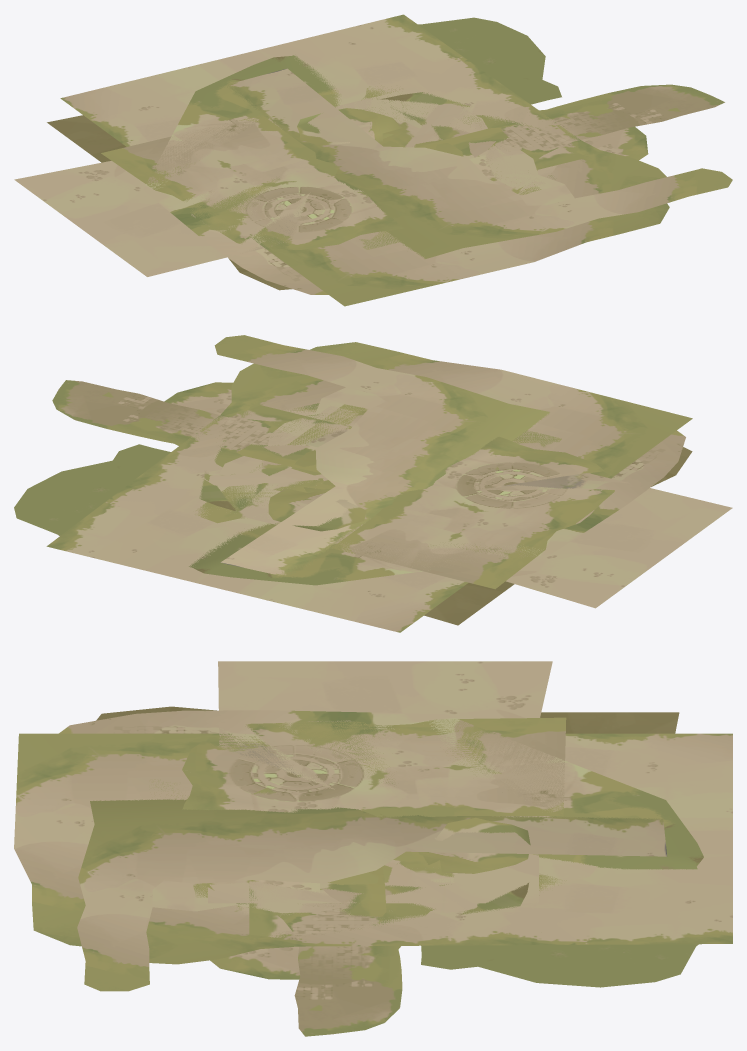
Rendered from EN_Island_LVL1_mesh.gltf.
The picture shows the model from 3 angles, top to bottom: view 1: azimuth 30°, elevation 25°; view 2: azimuth 150°, elevation 25°; view 3: azimuth 270°, elevation 25°; orthographic projection. The views are drawn at different scales.
Parts seen in each view (by area): view 1: SM_Island_4, SM_Island_4_L, SM_Island_2, SM_Island_1, SM_Island_3, SM_Island_1_Left, SM_Island_4_down, SM_Island_3_bottom_1, SM_Island_2_Front, SM_Island_3_top, SM_Island_2_Back, SM_Island_3_down; view 2: SM_Island_4, SM_Island_4_L, SM_Island_2, SM_Island_1, SM_Island_3, SM_Island_1_Left, SM_Island_3_right, SM_Island_2_Front, SM_Island_3_bottom_1, SM_Island_3_top, SM_Island_4_down, SM_Island_3_down (+1 smaller); view 3: SM_Island_4, SM_Island_4_L, SM_Island_2, SM_Island_3, SM_Island_1, SM_Island_4_down, SM_Island_1_Left, SM_Island_2_Front, SM_Island_3_bottom_1, SM_Island_3_top, SM_Island_2_Back.
Boxes of the visible parts, bbox=[...] form: SM_Island_4: bbox=[60, 14, 669, 306]; SM_Island_4_L: bbox=[47, 68, 732, 290]; SM_Island_2: bbox=[101, 115, 648, 249]; SM_Island_1: bbox=[14, 84, 724, 276]; SM_Island_3: bbox=[143, 17, 561, 294]; SM_Island_1_Left: bbox=[333, 85, 574, 205]; SM_Island_4_down: bbox=[335, 88, 545, 189]; SM_Island_3_bottom_1: bbox=[297, 108, 463, 156]; SM_Island_2_Front: bbox=[405, 103, 580, 179]; SM_Island_3_top: bbox=[380, 92, 495, 157]; SM_Island_2_Back: bbox=[379, 119, 438, 145]; SM_Island_3_down: bbox=[349, 89, 468, 249]; SM_Island_4: bbox=[46, 342, 692, 632]; SM_Island_4_L: bbox=[214, 335, 692, 625]; SM_Island_2: bbox=[164, 382, 614, 589]; SM_Island_1: bbox=[52, 380, 732, 608]; SM_Island_3: bbox=[14, 403, 685, 585]; SM_Island_1_Left: bbox=[217, 387, 385, 537]; SM_Island_3_right: bbox=[195, 404, 369, 523]; SM_Island_2_Front: bbox=[203, 405, 498, 486]; SM_Island_3_bottom_1: bbox=[268, 450, 366, 531]; SM_Island_3_top: bbox=[199, 445, 310, 510]; SM_Island_4_down: bbox=[201, 406, 358, 524]; SM_Island_3_down: bbox=[209, 430, 561, 518]; SM_Island_4: bbox=[14, 733, 732, 964]; SM_Island_4_L: bbox=[77, 706, 679, 991]; SM_Island_2: bbox=[182, 717, 566, 979]; SM_Island_3: bbox=[59, 710, 703, 987]; SM_Island_1: bbox=[206, 661, 552, 1036]; SM_Island_4_down: bbox=[208, 854, 538, 903]; SM_Island_1_Left: bbox=[152, 857, 597, 912]; SM_Island_2_Front: bbox=[249, 775, 477, 937]; SM_Island_3_bottom_1: bbox=[328, 817, 530, 884]; SM_Island_3_top: bbox=[322, 883, 528, 914]; SM_Island_2_Back: bbox=[390, 851, 454, 882].
Bounding box in the file's own units: 9.41 × 4.77e-06 × 7.61.
Materials: 1 (1 with a texture image).
